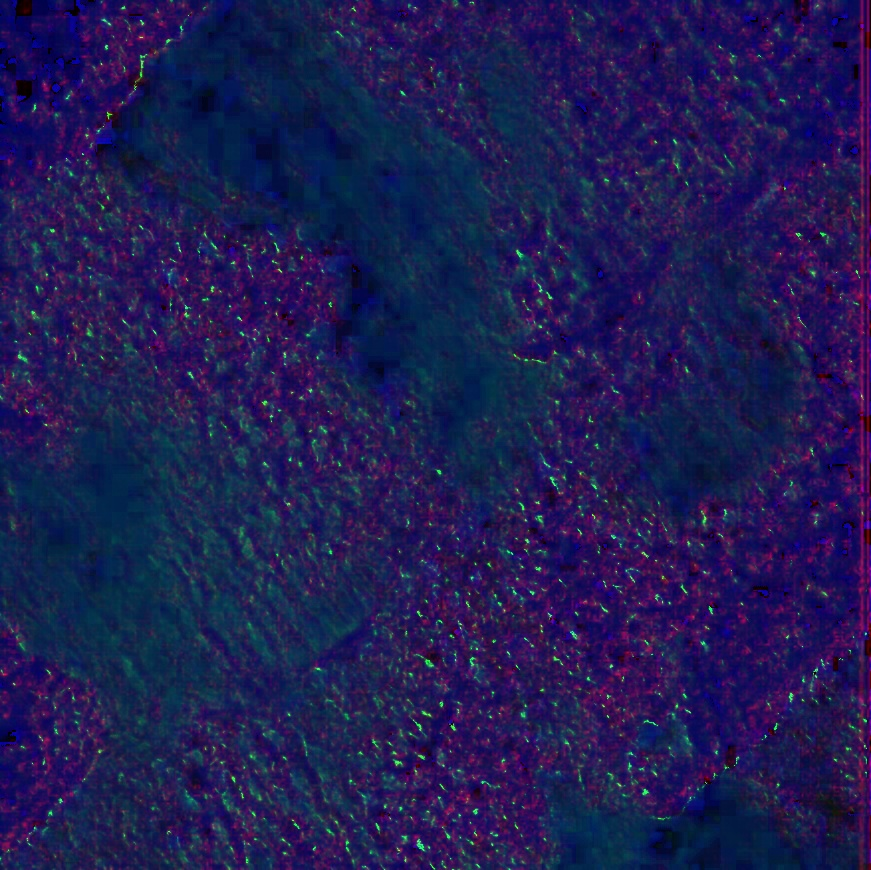rip_current: (110, 53, 631, 564)
